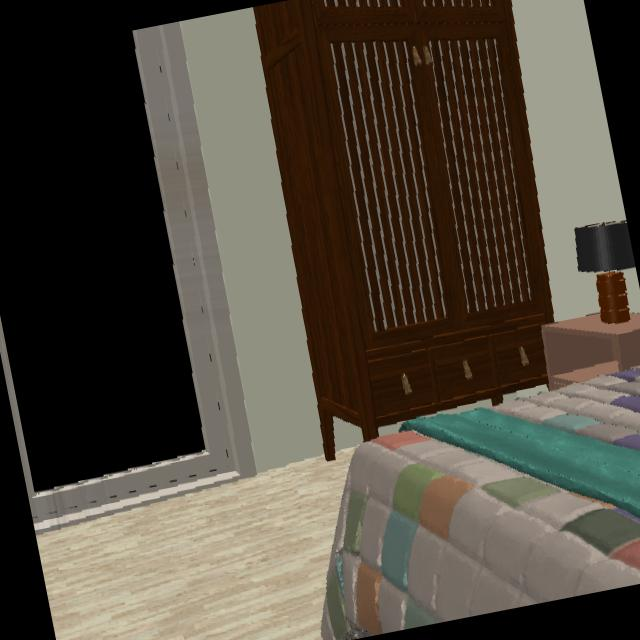bed: (321, 367, 640, 640)
lamp: (575, 221, 636, 326)
nighttable: (543, 315, 640, 388)
wardrobe: (252, 0, 557, 461)
